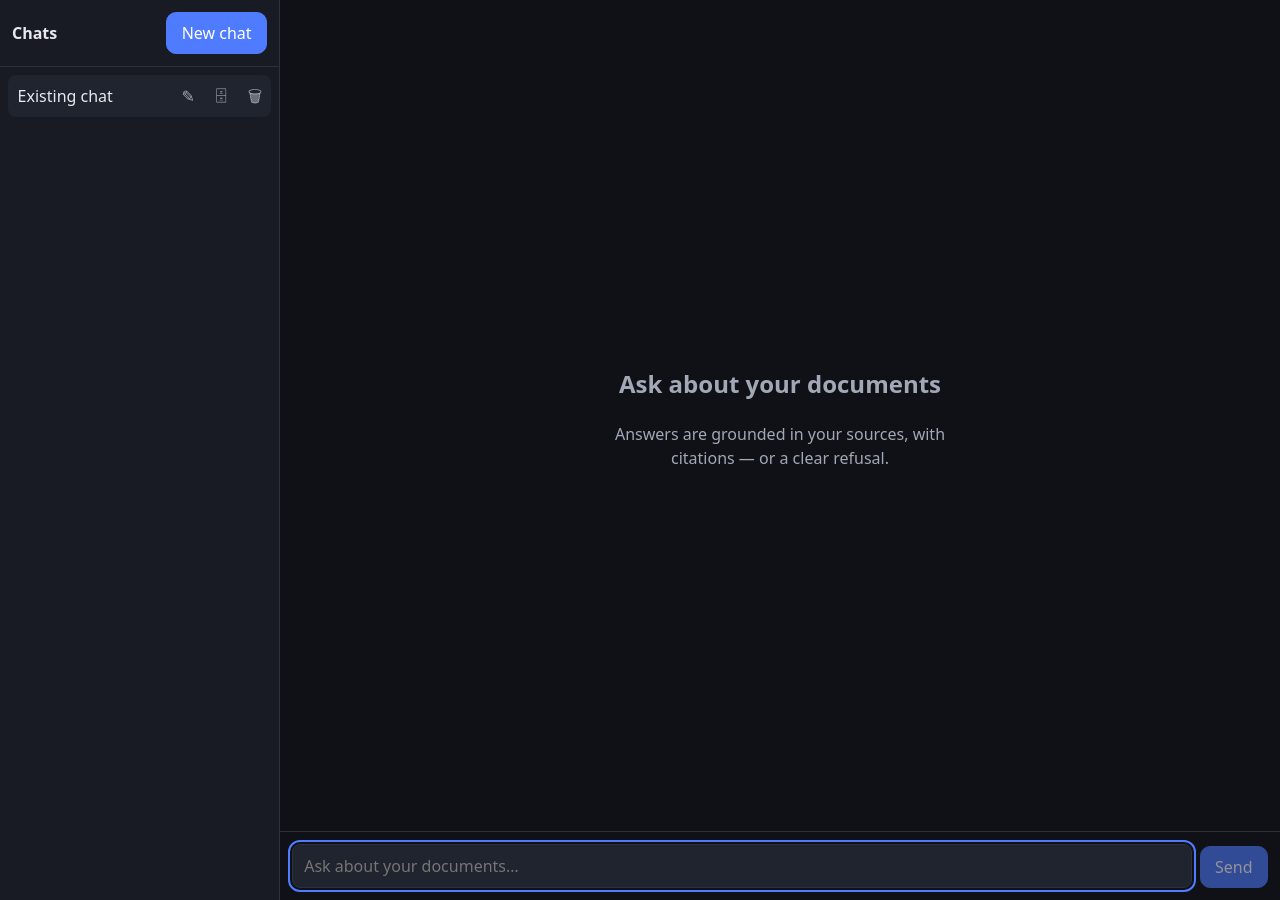
chat — streaming + states › refusal supersedes the streamed text
Expected: the heading "Ask about your documents" is shown, [597,366,963,402]
Type "tell me something" into the text box named "Message". click: (742, 866)
box: [292,844,1192,888]
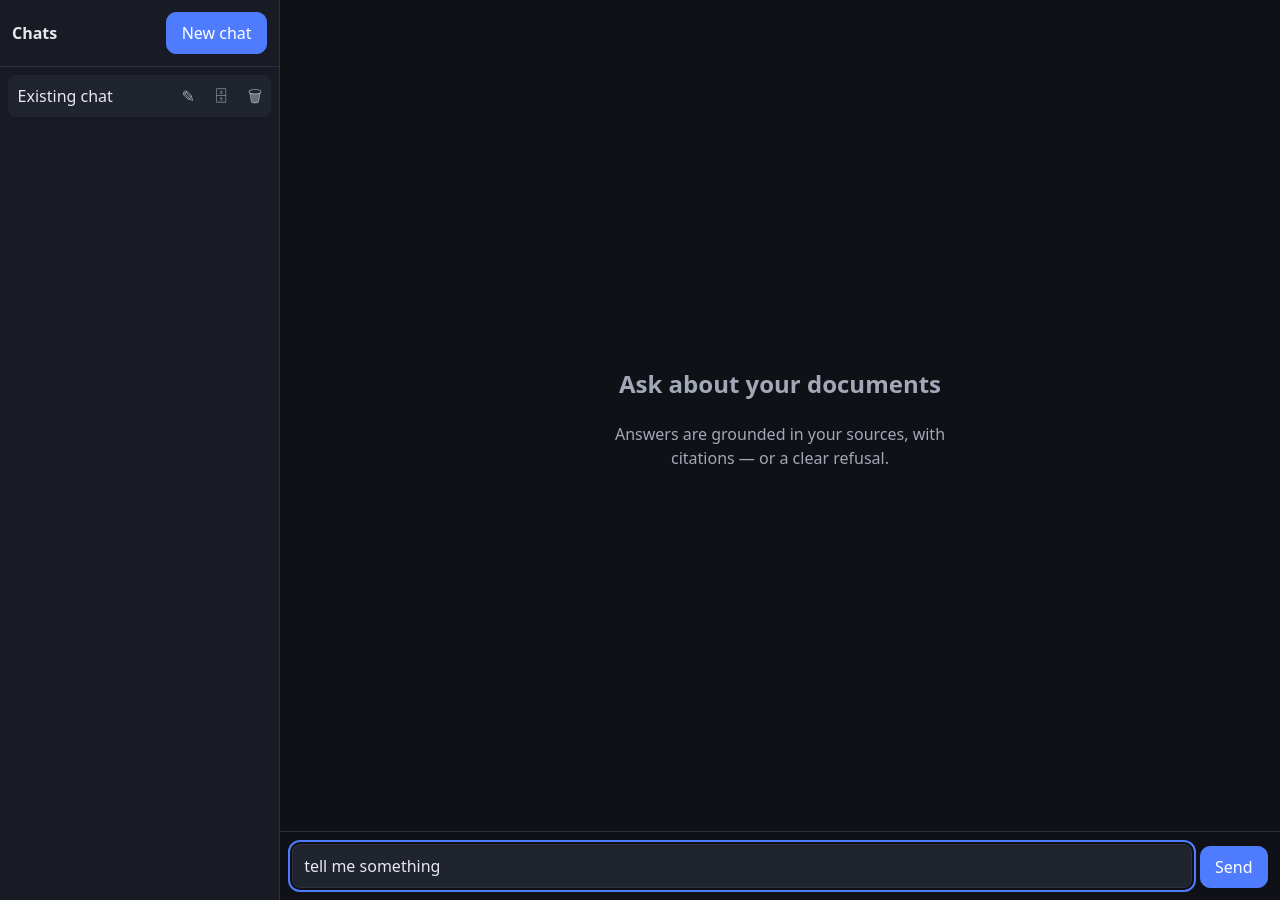
Click the button "Send". click: click(1234, 867)
box: [1200,846,1268,888]
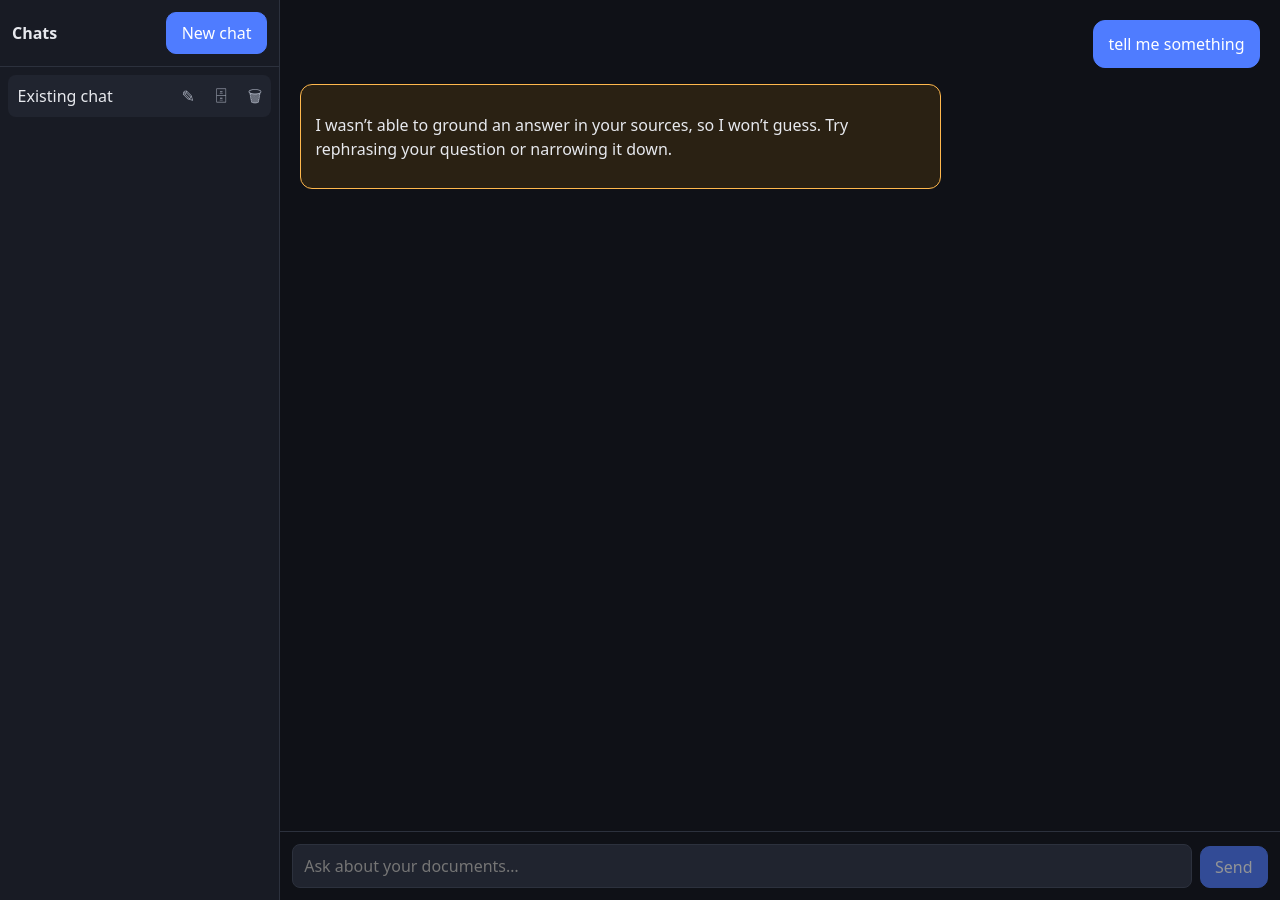
Expected: the text "won’t guess" is shown, [315,114,848,160]
